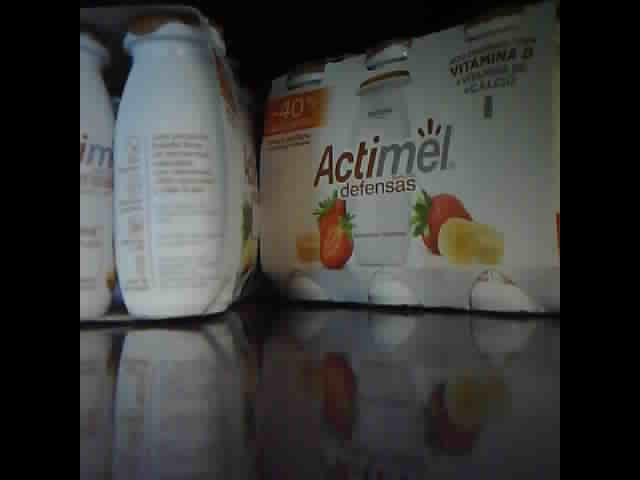actimel: (261, 1, 558, 308), (81, 1, 260, 322)
